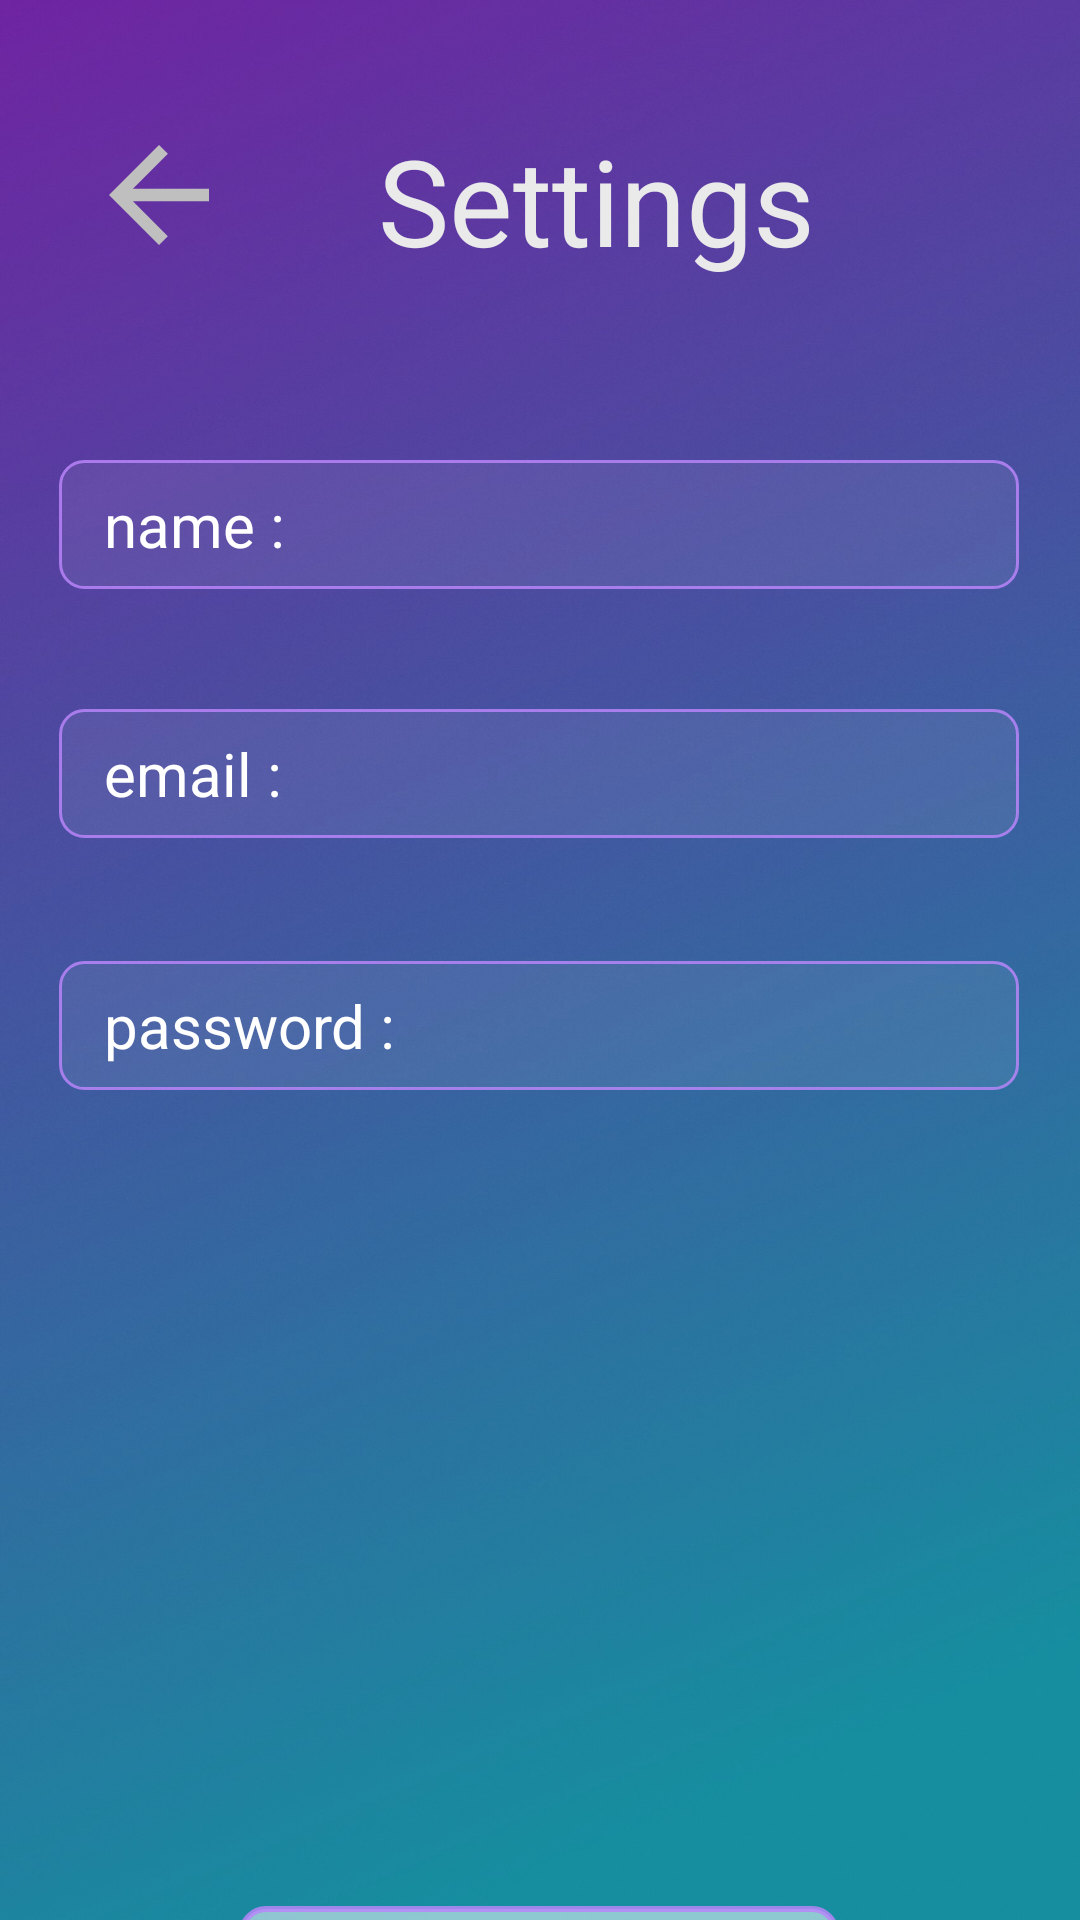

Icon click points for this 1080×1920 phone screenshot, format [x,y]:
arrow back: [159,195]
